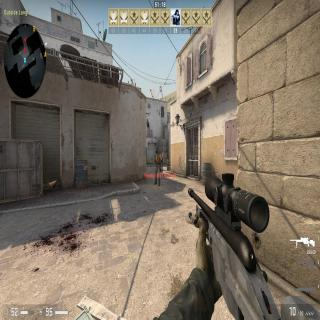T-Body: (154, 149, 162, 186), (160, 153, 163, 172)
T-Head: (156, 150, 158, 155), (160, 153, 162, 155)
